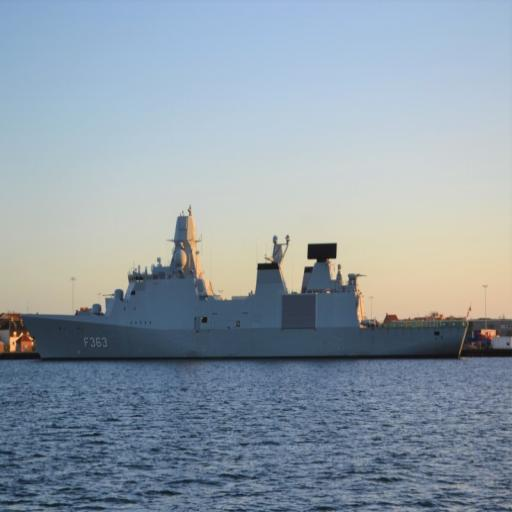Fragata: (19, 196, 470, 367)
